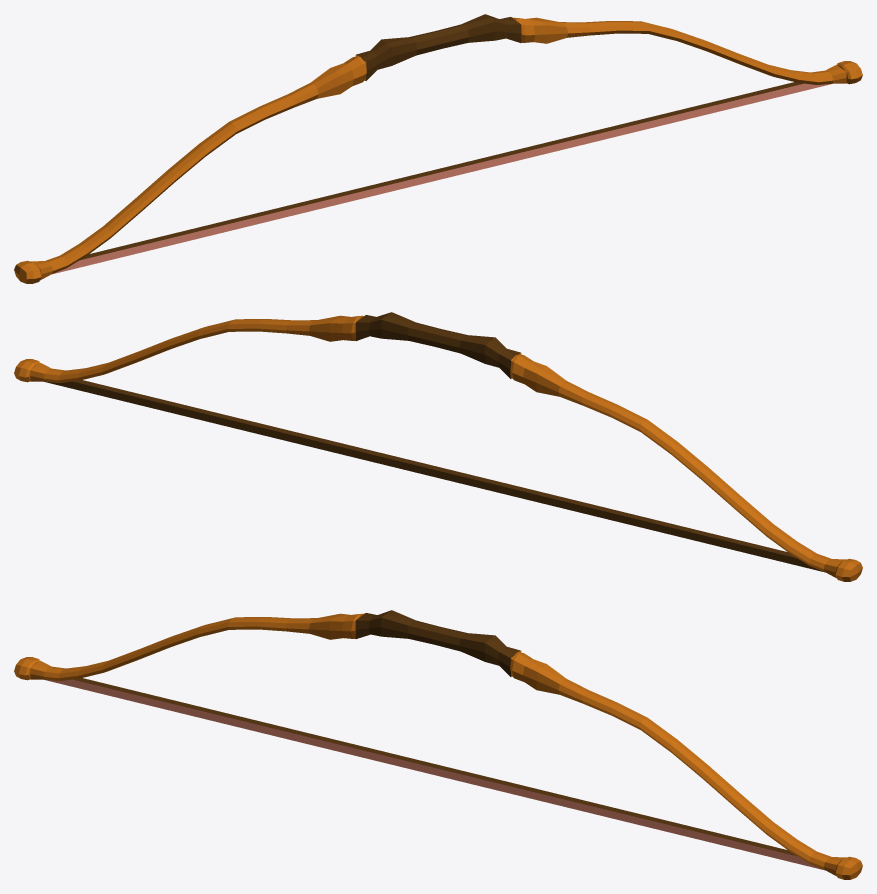
Rendered from bow.fbx.
The picture shows the model from 3 angles, top to bottom: view 1: azimuth 30°, elevation 25°; view 2: azimuth 150°, elevation 25°; view 3: azimuth 330°, elevation 25°; orthographic projection.
Visible parts, largest first — view 1: Bow; view 2: Bow; view 3: Bow.
Boxes of the visible parts, x1=… form: Bow: x1=14, y1=14, x2=862, y2=283; Bow: x1=14, y1=312, x2=862, y2=581; Bow: x1=14, y1=610, x2=862, y2=879.
Size of the model in its own units: 24497 by 4212 by 827.
